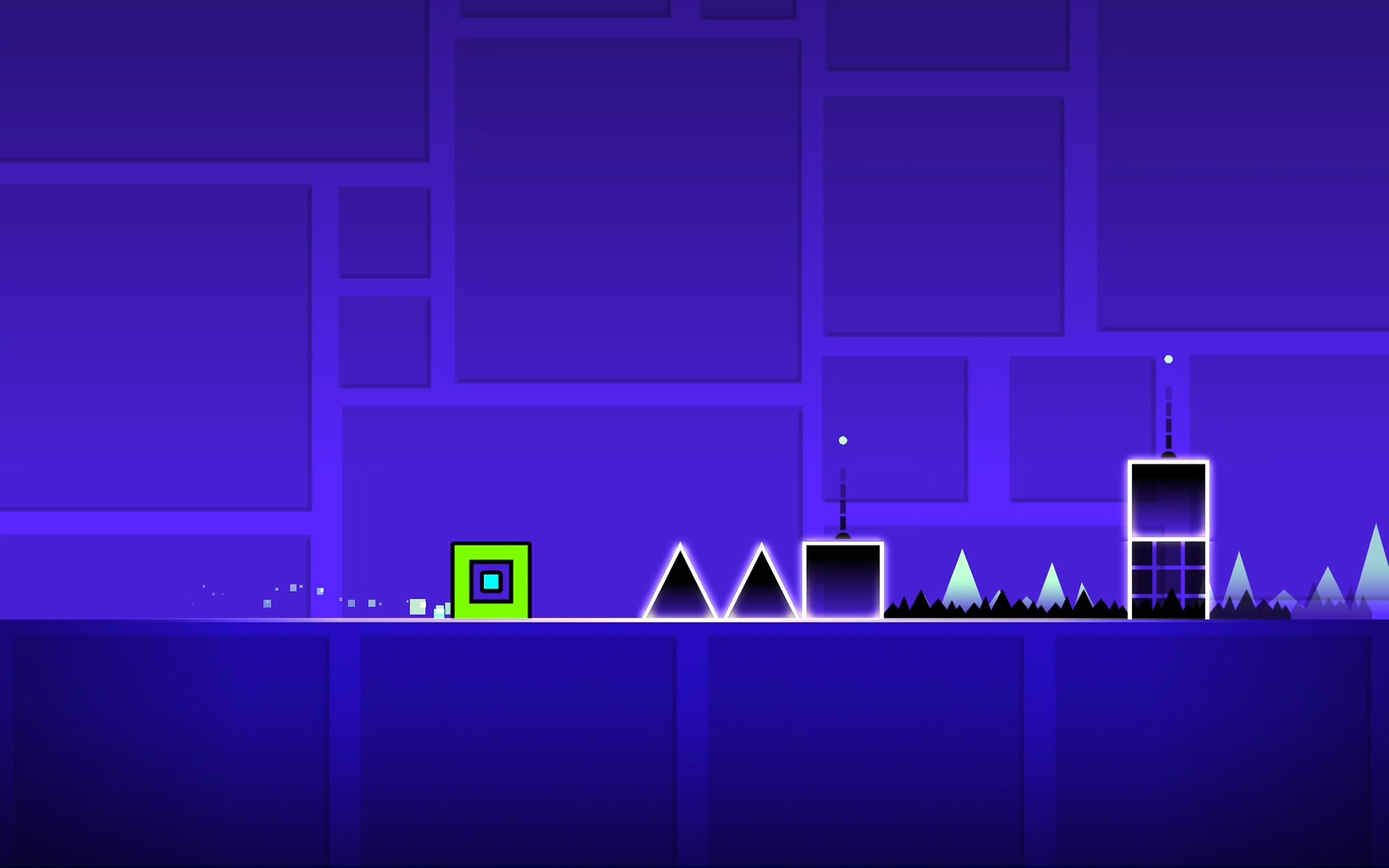Block: (802, 542, 885, 616), (1131, 461, 1208, 536)
Block2: (1130, 540, 1205, 616)
Player: (451, 542, 530, 618)
Spike: (725, 544, 798, 618), (643, 544, 716, 617)
Spike3: (885, 592, 1125, 619), (1292, 568, 1371, 619), (1212, 592, 1291, 620)
